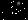person: (12, 3, 20, 16)
